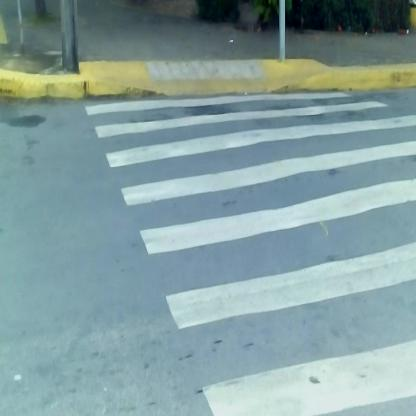crosswalk: (84, 97, 414, 412)
sidewalk: (6, 37, 414, 103)
